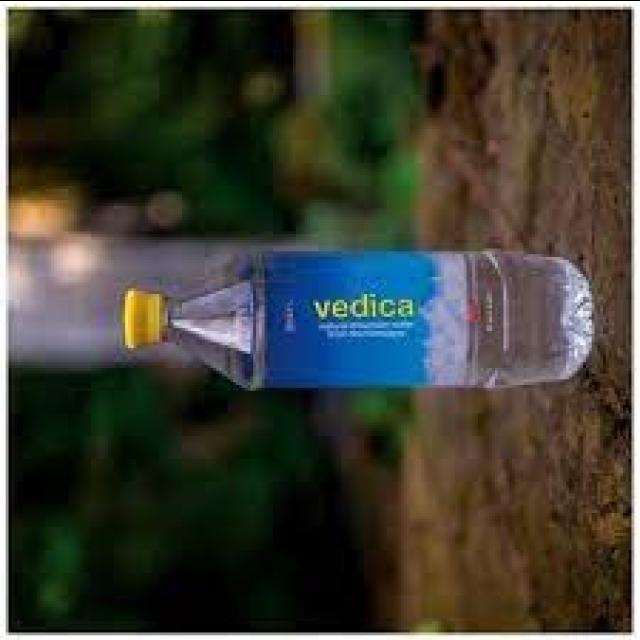bottle: (90, 208, 606, 412)
